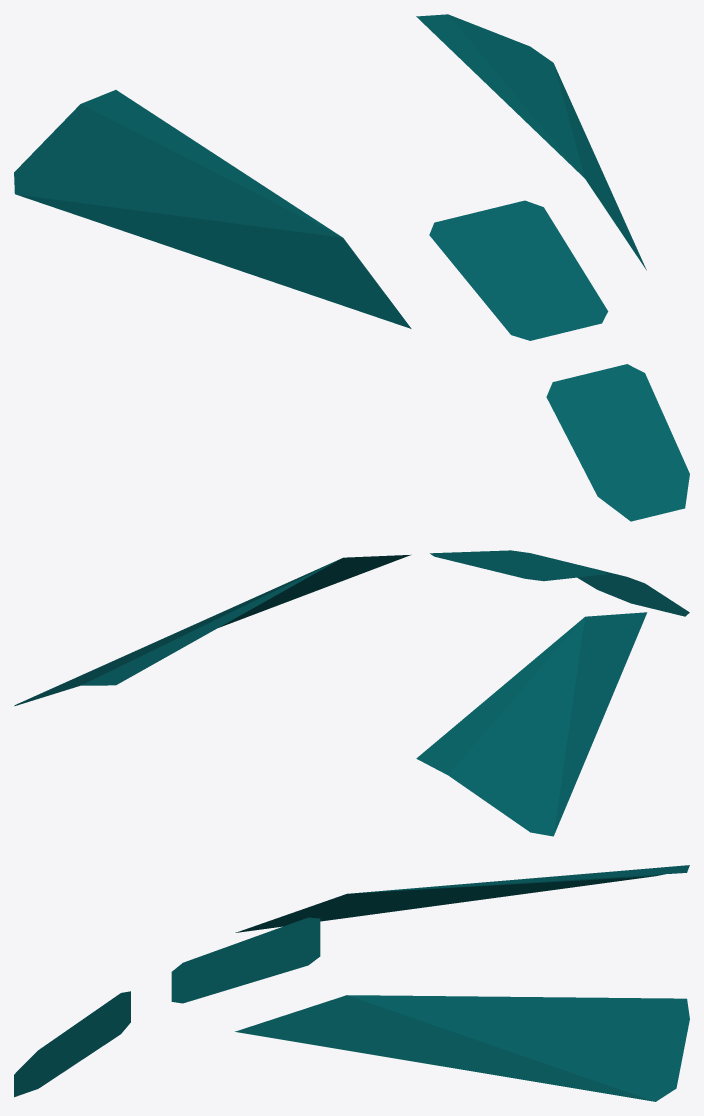
The model's file is starship_005_Inside_window.fbx.
The picture shows the model from 3 angles, top to bottom: view 1: azimuth 30°, elevation 25°; view 2: azimuth 150°, elevation 25°; view 3: azimuth 270°, elevation 25°; orthographic projection. The views are drawn at different scales.
Parts seen in each view (by area): view 1: starship_005_inside_window; view 2: starship_005_inside_window; view 3: starship_005_inside_window.
Boxes of the visible parts, x1=… form: starship_005_inside_window: x1=14, y1=14, x2=689, y2=521; starship_005_inside_window: x1=14, y1=550, x2=689, y2=836; starship_005_inside_window: x1=14, y1=865, x2=689, y2=1101.
Size of the model in its own units: 301 by 93.45 by 381.
